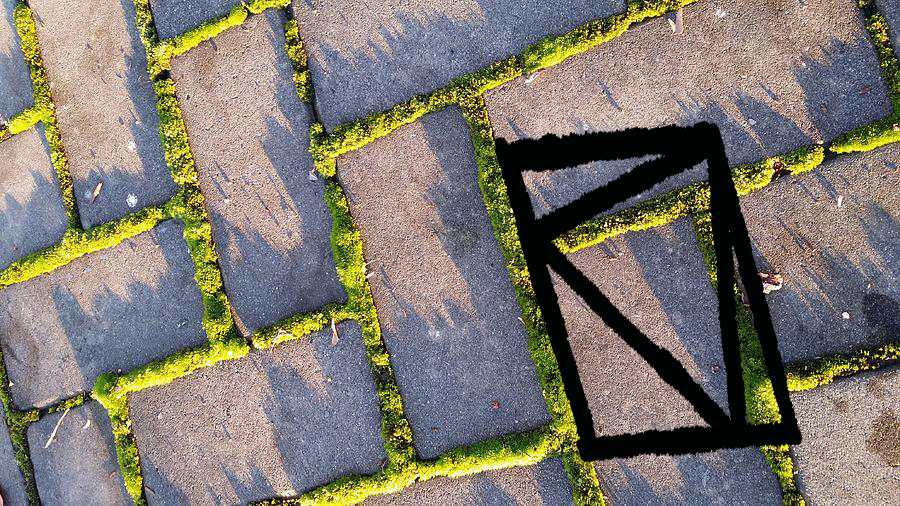marker: (484, 117, 808, 467)
